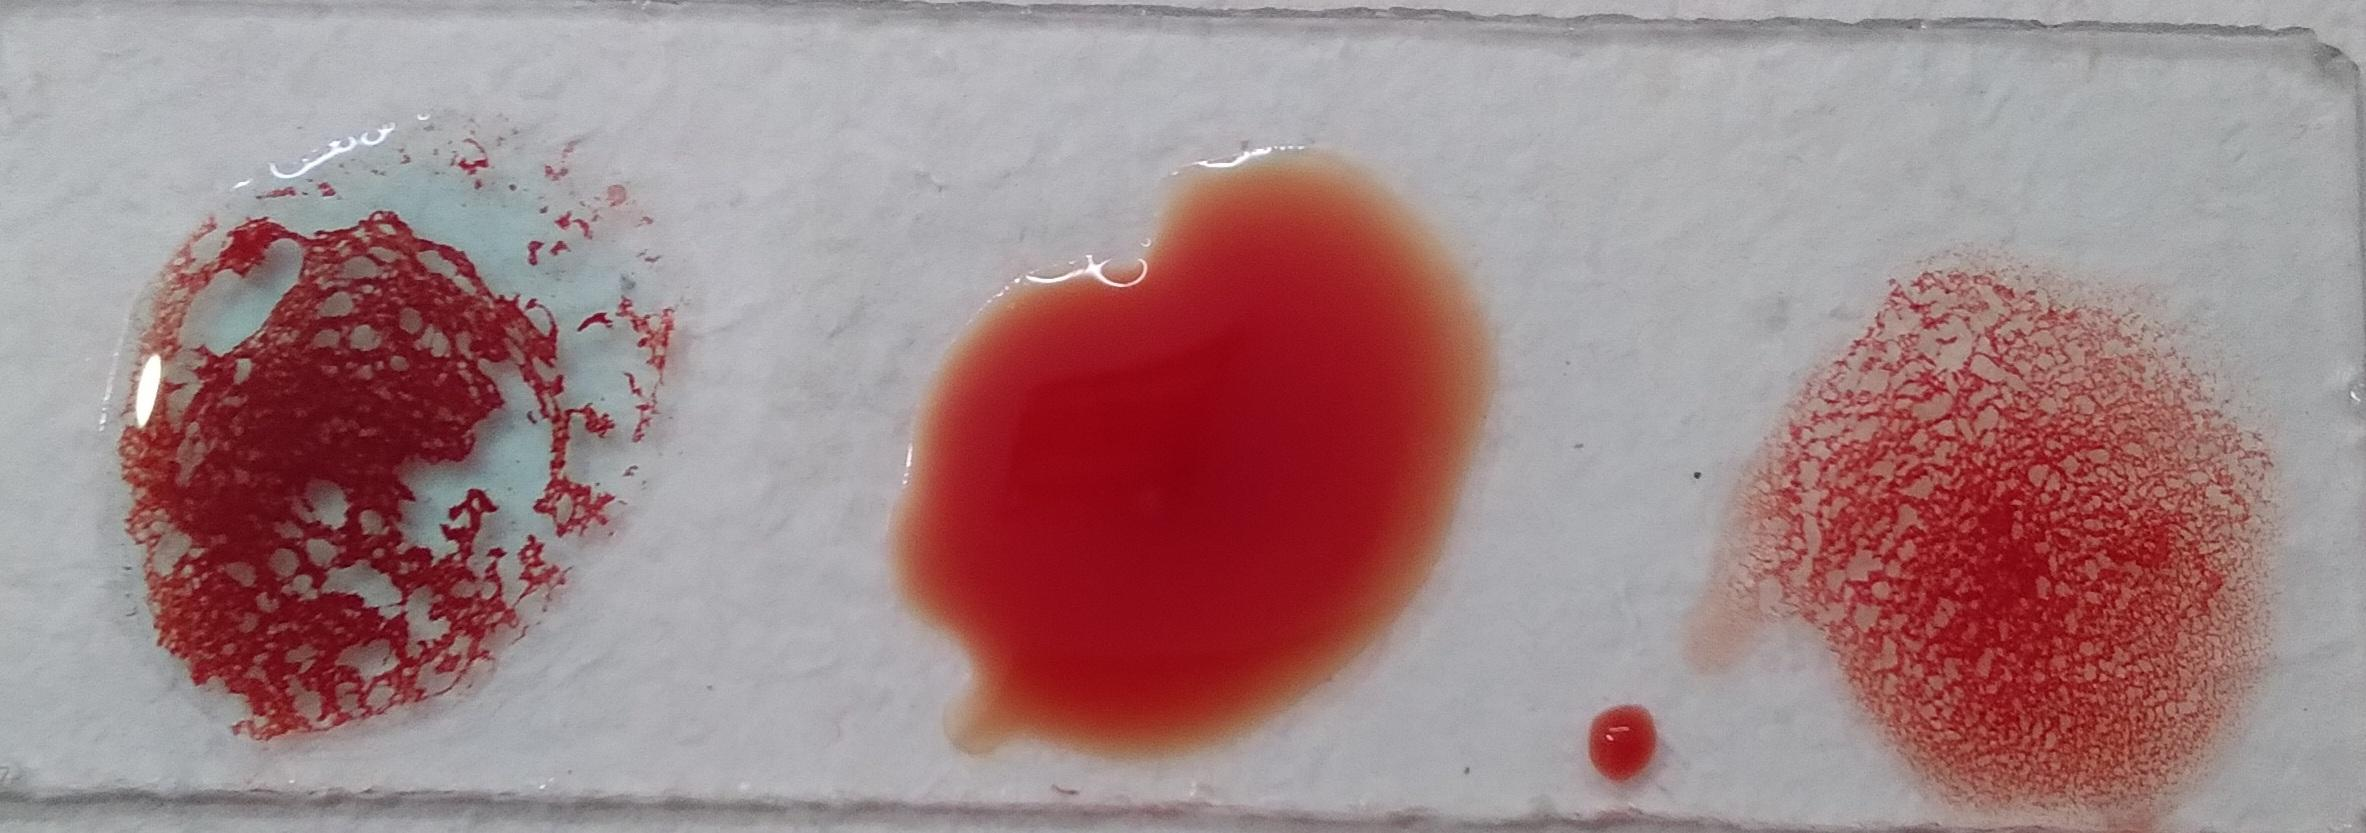A: (1651, 94, 2260, 730)
D: (68, 11, 590, 578)
